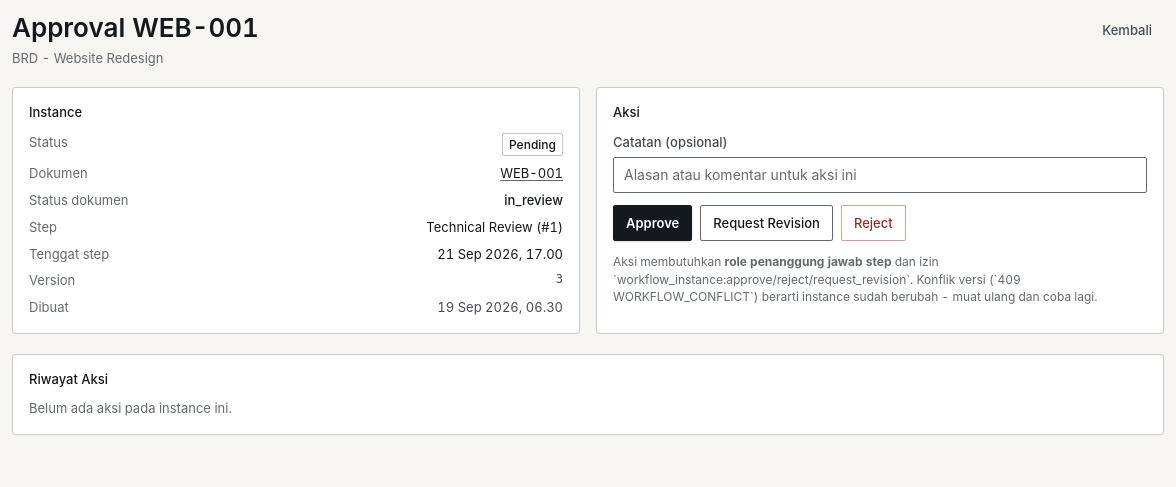
halaman Approvals — detail › menampilkan alert 409 WORKFLOW_CONFLICT dan memuat ulang
Click the button "Approve" at (653, 223), box top-left (613, 205), bottom-right (692, 241)
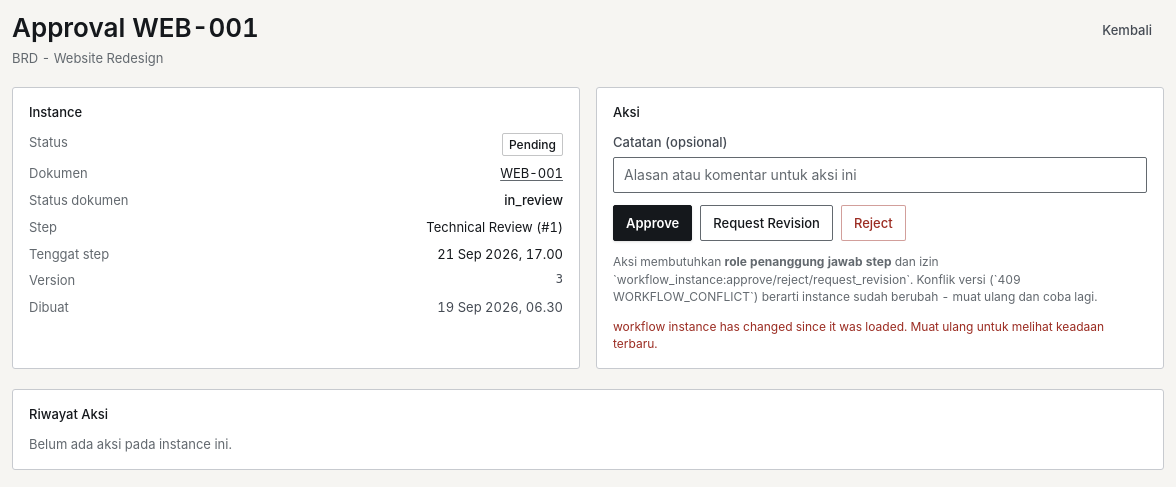
Expected: the message shows "workflow instance has changed", top-left (613, 319), bottom-right (1104, 351)
